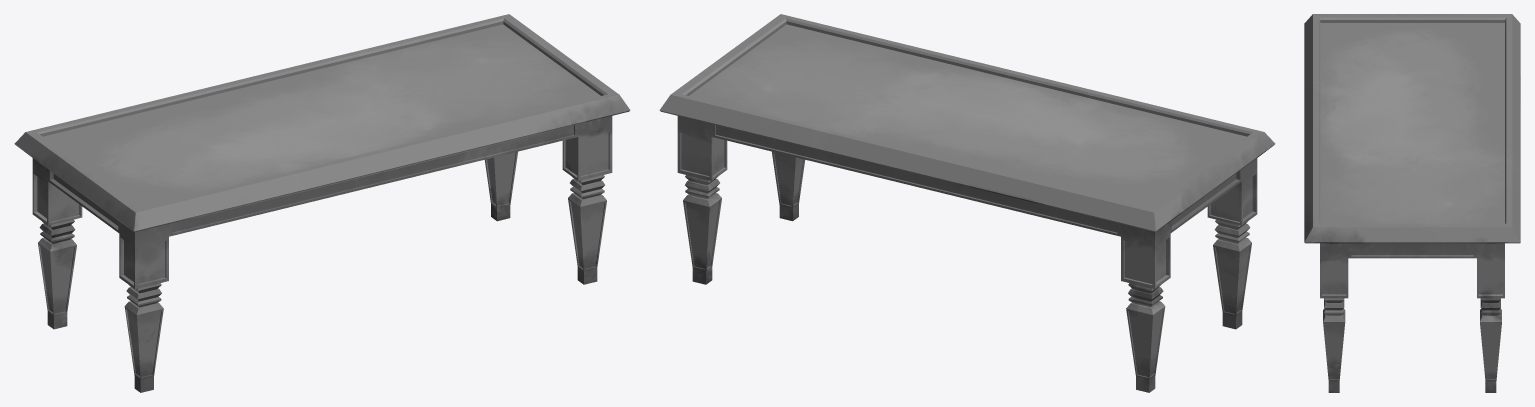
The model's file is coffee_table.fbx.
3 renders of one model, left to right at view 1: azimuth 30°, elevation 25°; view 2: azimuth 150°, elevation 25°; view 3: azimuth 270°, elevation 25°, orthographic. The views are drawn at different scales.
Visible parts, largest first — view 1: coffee_table; view 2: coffee_table; view 3: coffee_table.
Boxes of the visible parts, left/top/right/bottom form: coffee_table: left=14, top=14, right=630, bottom=392; coffee_table: left=659, top=14, right=1275, bottom=392; coffee_table: left=1304, top=14, right=1520, bottom=392.
Size of the model in its own units: 167 by 61.04 by 69.78.
Materials: 1 (1 with a texture image).
